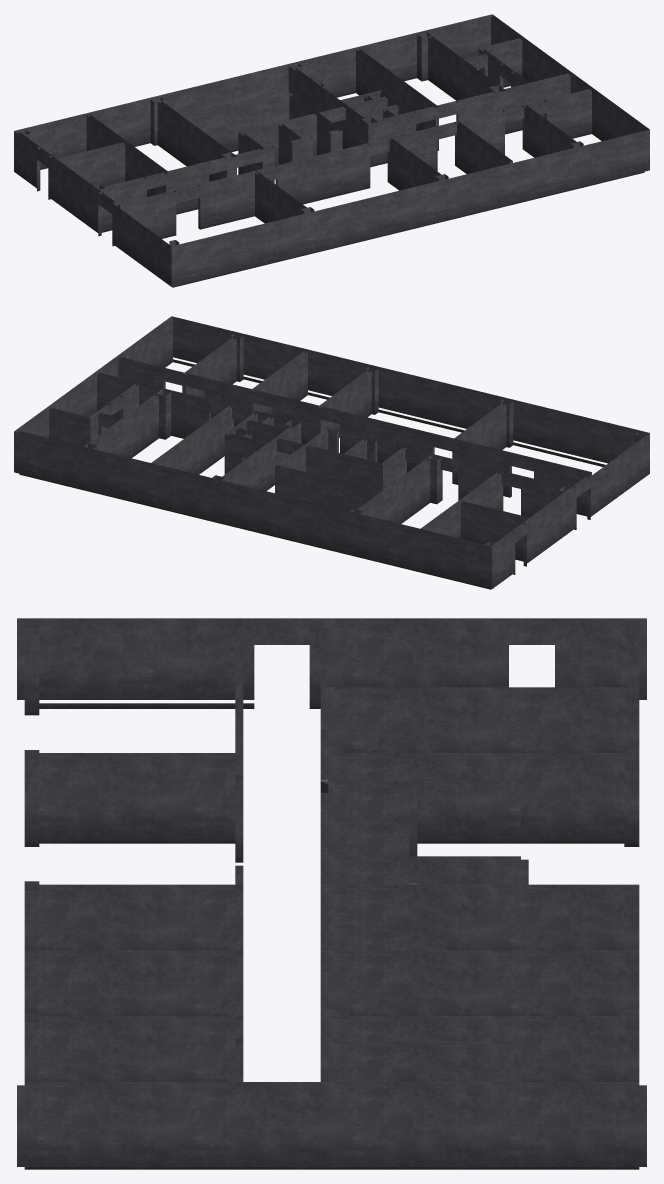
Rendered from 4f墙体.obj.
3 renders of one model, top to bottom at view 1: azimuth 30°, elevation 25°; view 2: azimuth 150°, elevation 25°; view 3: azimuth 270°, elevation 25°, orthographic. The views are drawn at different scales.
Visible parts, largest first — view 1: Line007; view 2: Line007; view 3: Line007.
Boxes of the visible parts, left/top/right/bottom form: Line007: left=14, top=14, right=649, bottom=287; Line007: left=14, top=316, right=649, bottom=589; Line007: left=17, top=618, right=646, bottom=1169.
Size of the model in its own units: 3437 by 300 by 1961.
